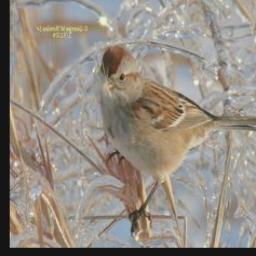Sparrow: (93, 41, 256, 237)
